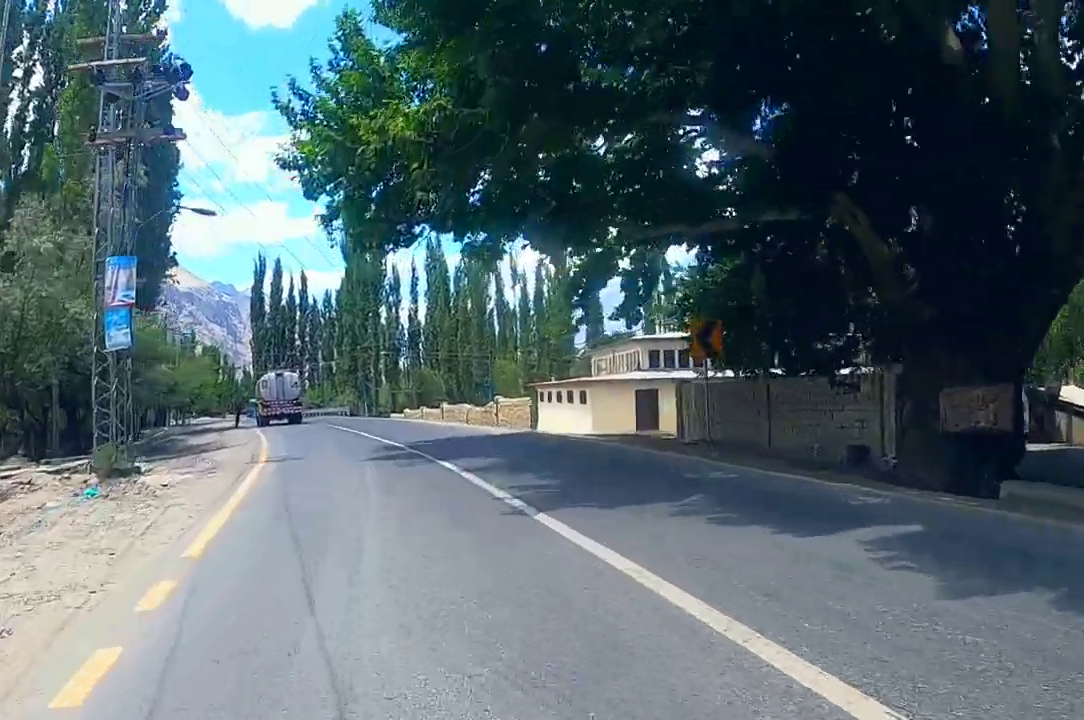left: (260, 427, 807, 711)
